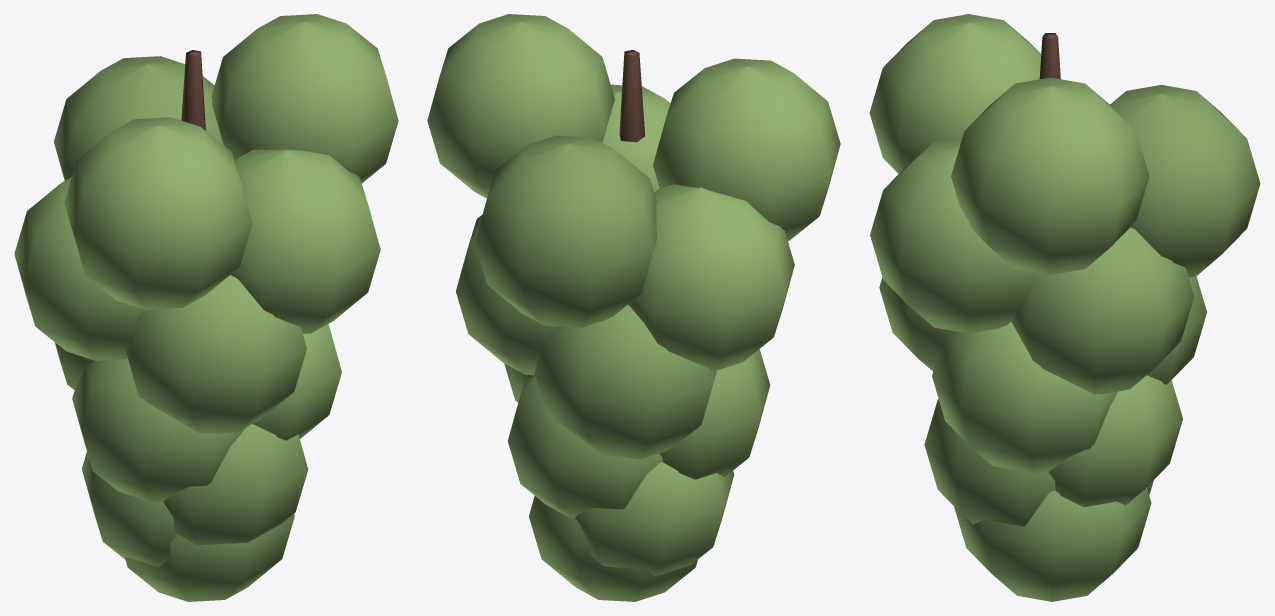
Rendered from fruit-grape-unripe.glb.
3 views of the same model, side by side, from view 1: azimuth 30°, elevation 25°; view 2: azimuth 150°, elevation 25°; view 3: azimuth 270°, elevation 25° (orthographic). The views are drawn at different scales.
Parts seen in each view (by area): view 1: fruit-grape-unripe; view 2: fruit-grape-unripe; view 3: fruit-grape-unripe.
Boxes of the visible parts, x1,y1,x2,y2 form: fruit-grape-unripe: (14,14,398,601); fruit-grape-unripe: (427,14,840,601); fruit-grape-unripe: (869,14,1260,601).
Size of the model in its own units: 0.2843 by 0.4167 by 0.2647.
